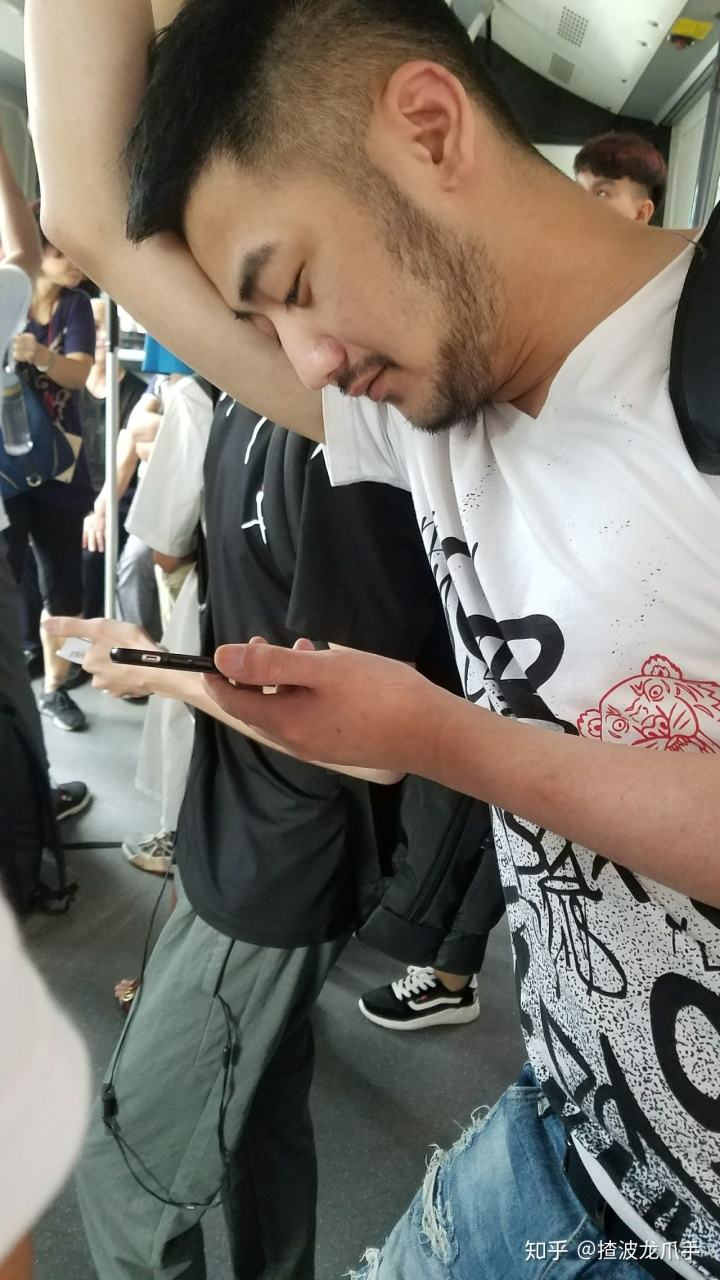person: (51, 30, 600, 894)
